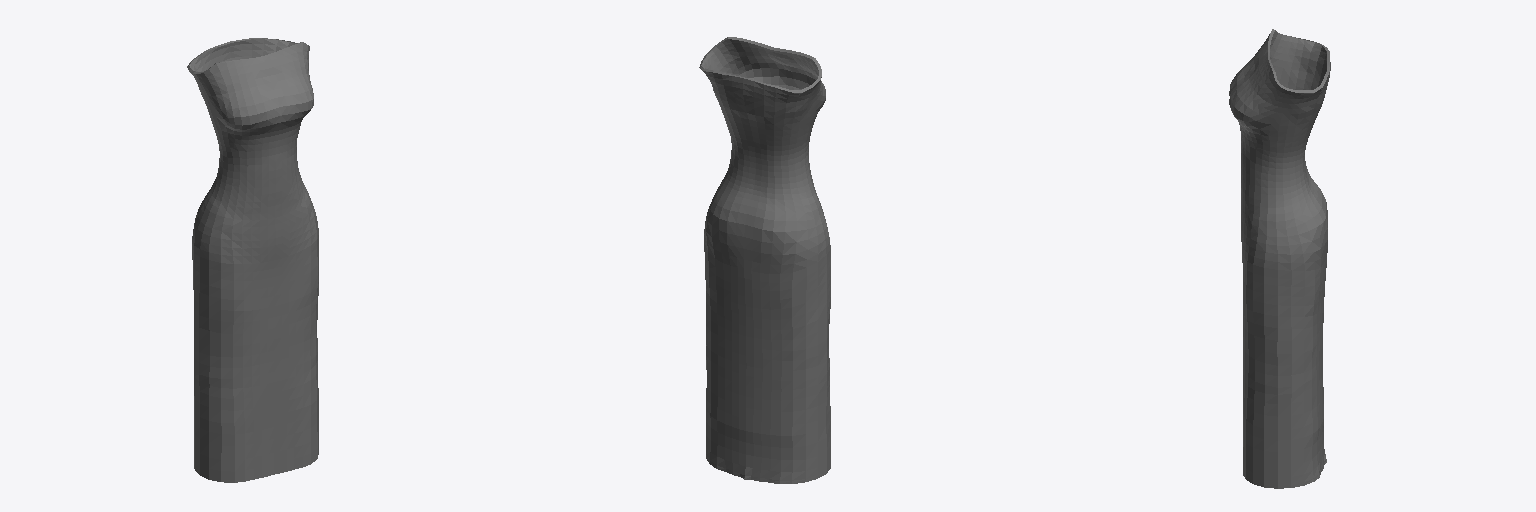
File: Dress.obj
3 renders of one model, left to right at view 1: azimuth 30°, elevation 25°; view 2: azimuth 150°, elevation 25°; view 3: azimuth 270°, elevation 25°, orthographic.
Parts seen in each view (by area): view 1: polySurface4; view 2: polySurface4; view 3: polySurface4.
Part boxes in pixels (x1,y1,x2,y2): polySurface4: (187,38,318,482); polySurface4: (699,37,830,483); polySurface4: (1229,29,1330,488).
Bounding box in the file's own units: 2.85 × 9.67 × 2.15.